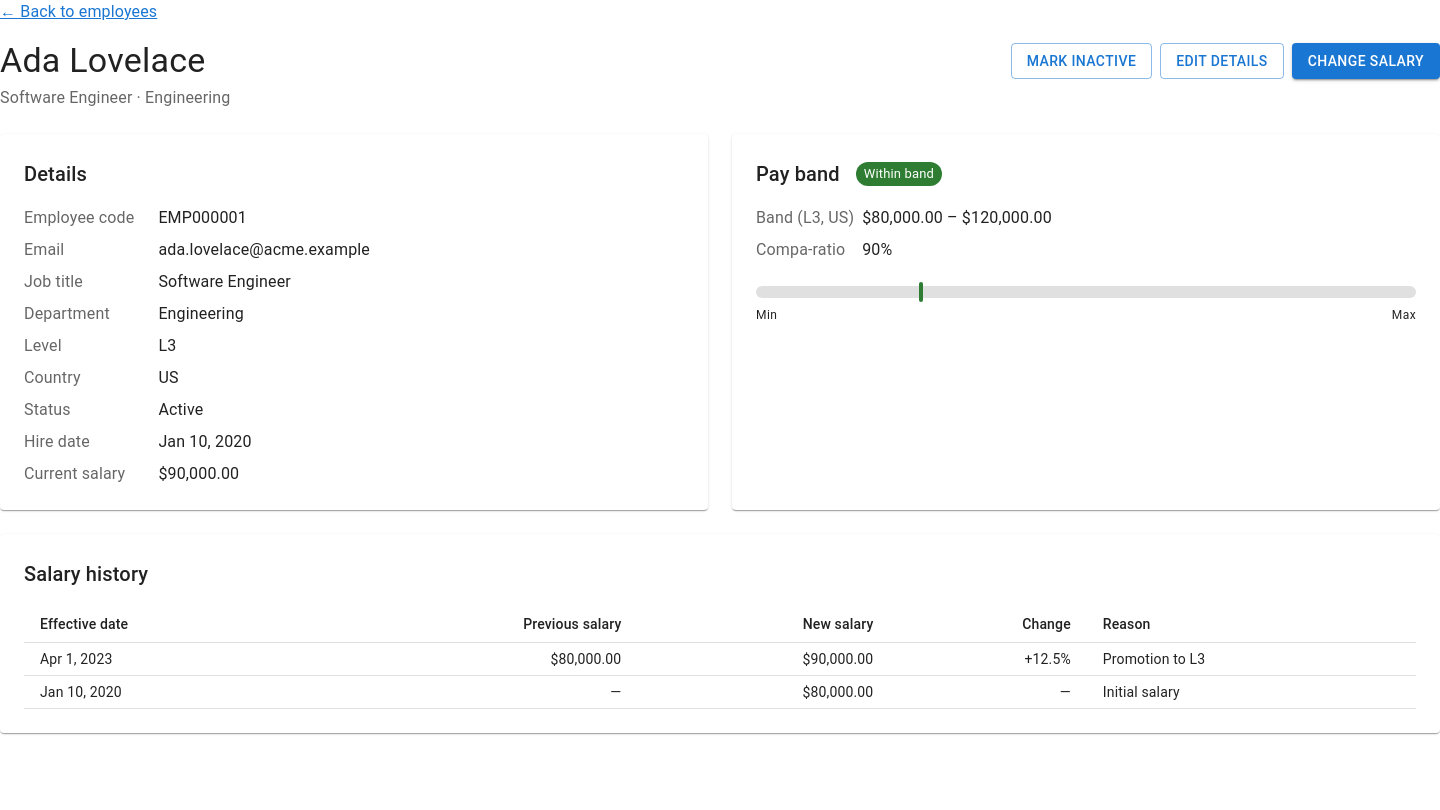
Edit details dialog › moves focus to the first invalid field
Click the button "Edit details" at (1222, 61), box [1160,43,1284,79]
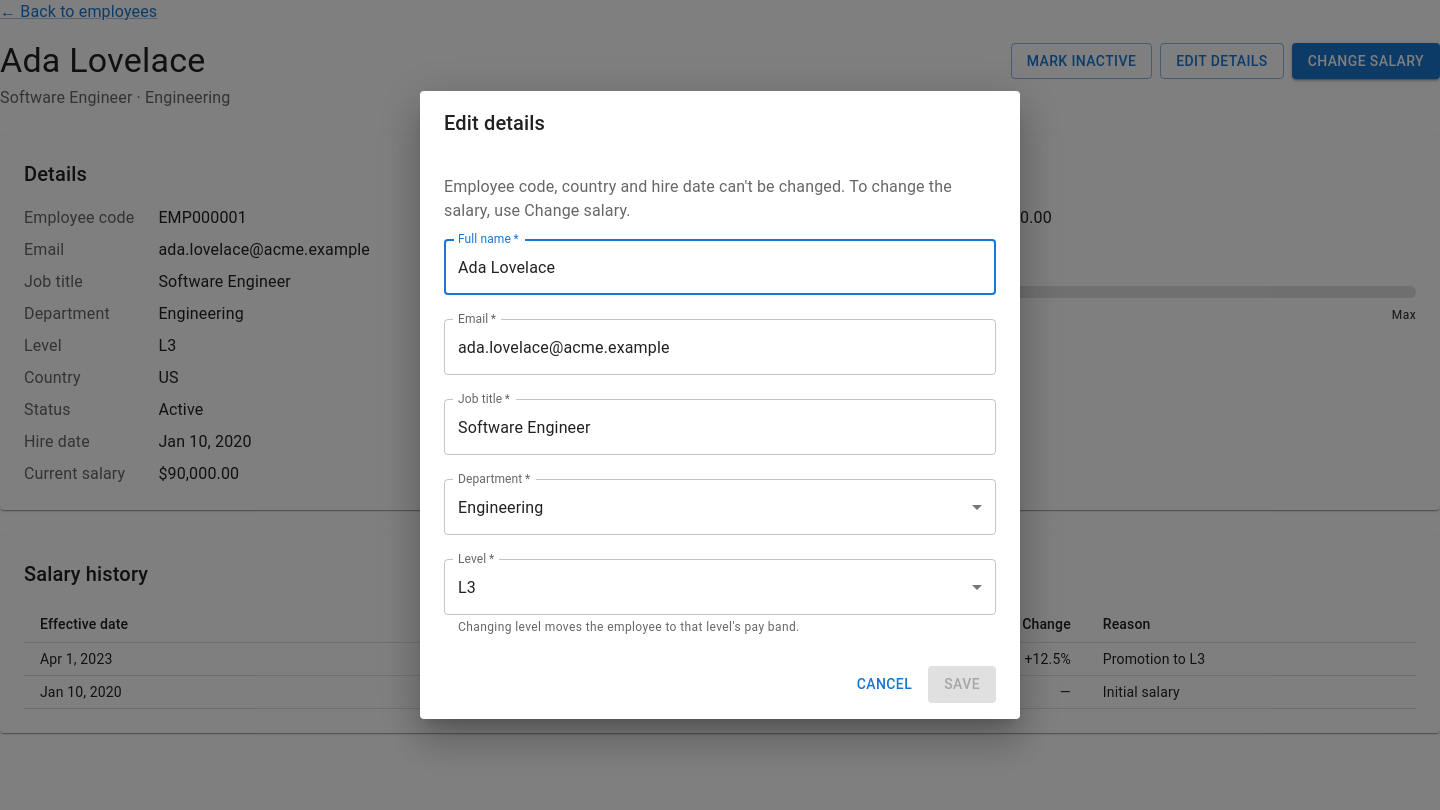
Clear the field labelled "Job title *" at (720, 427), box [444,399,996,455]
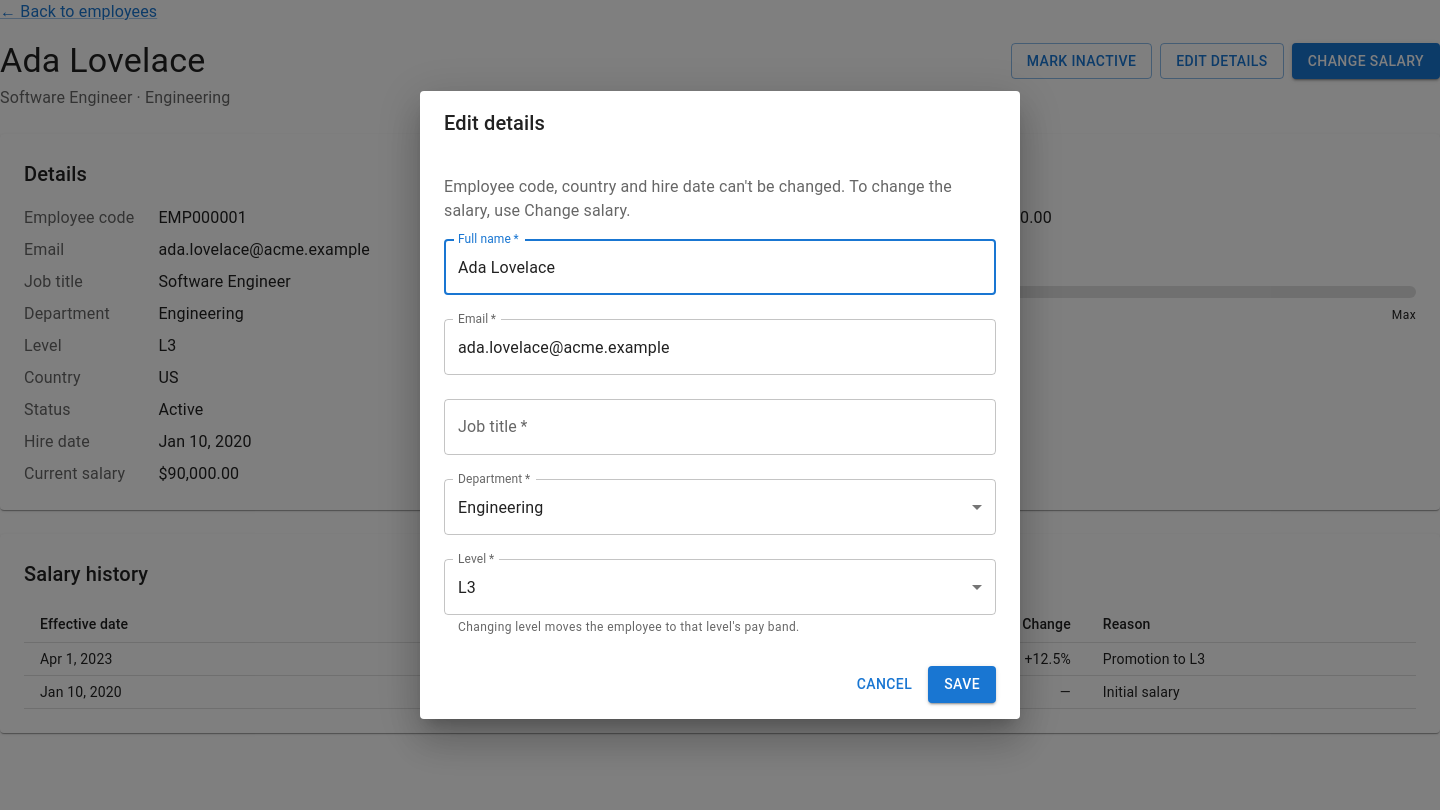
Click the button "Save" at (962, 684), box [928,666,996,703]
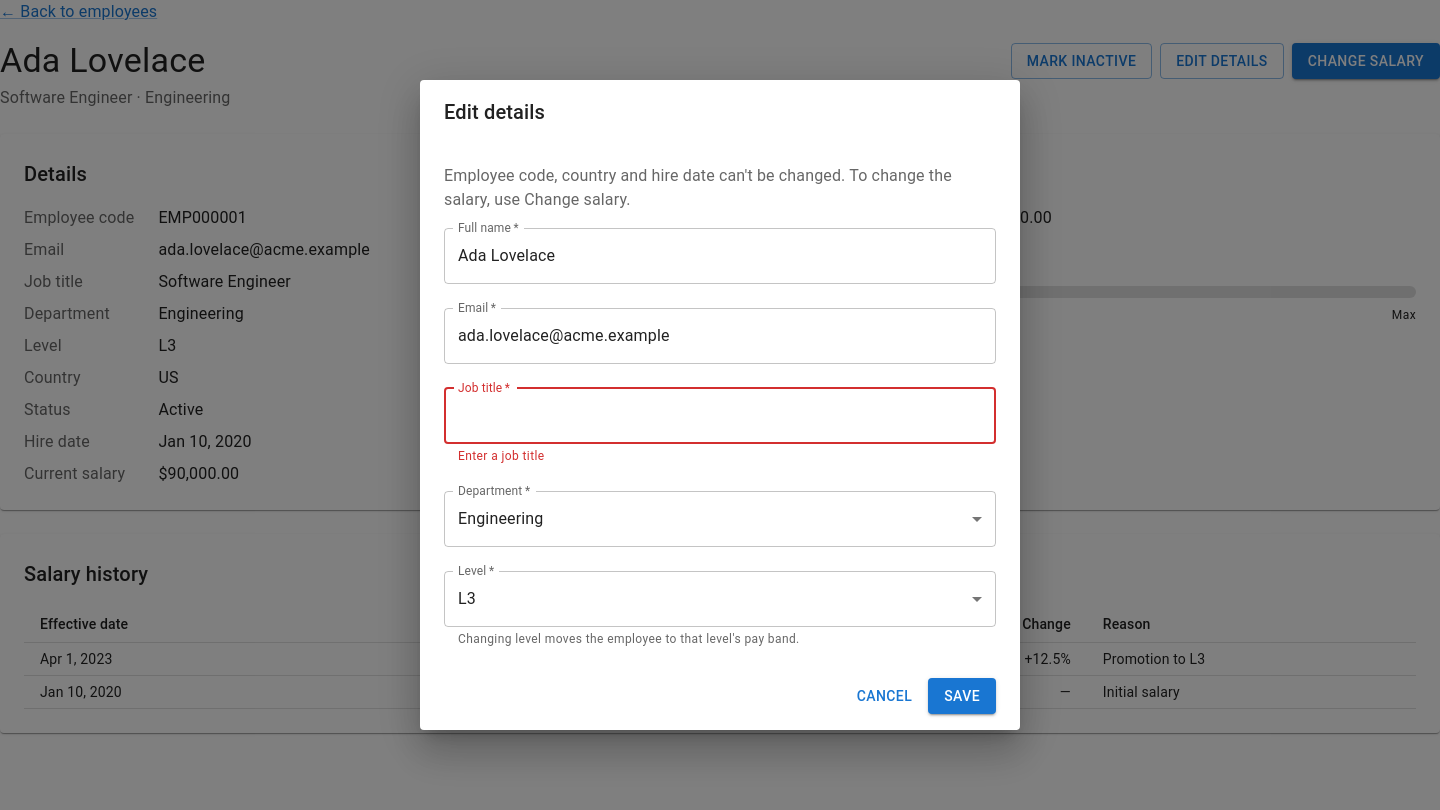
Now the text "Enter a job title" is shown, box [458,449,545,463]
